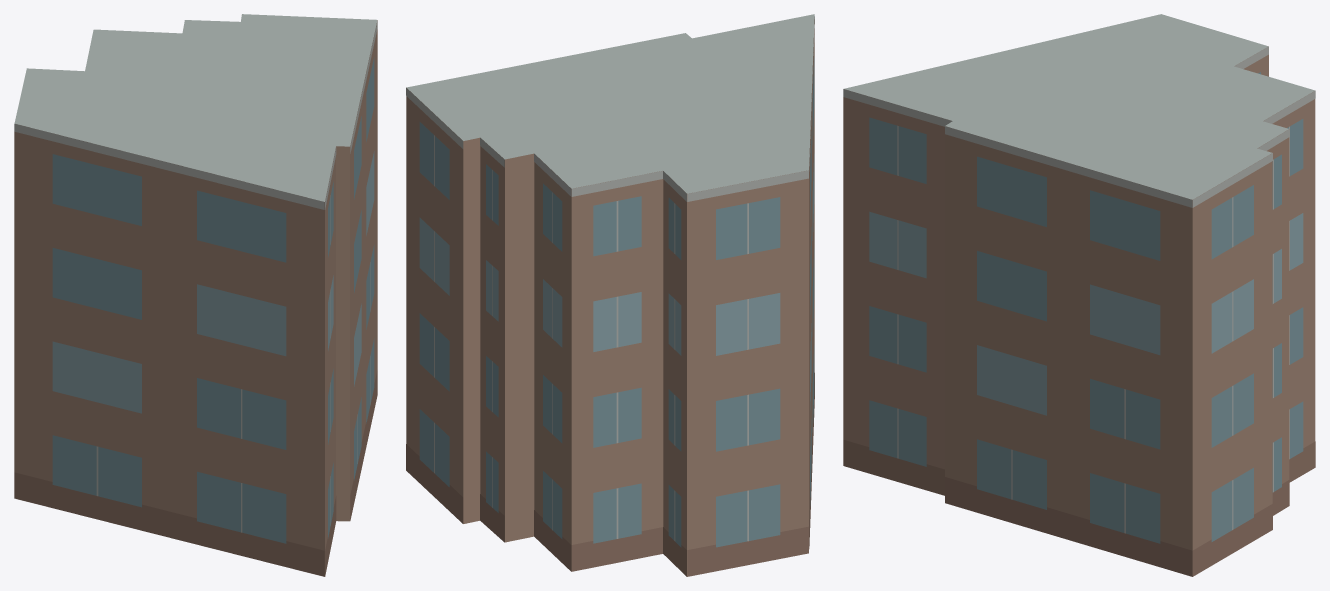
Rendered from survey-upis-32719913.glb.
3 views of the same model, side by side, from view 1: azimuth 30°, elevation 25°; view 2: azimuth 150°, elevation 25°; view 3: azimuth 270°, elevation 25° (orthographic). The views are drawn at different scales.
Visible parts, largest first — view 1: survey-upis-32719913.tmp; view 2: survey-upis-32719913.tmp; view 3: survey-upis-32719913.tmp.
Part boxes in pixels (x1,y1,x2,y2): survey-upis-32719913.tmp: (14, 14, 377, 576); survey-upis-32719913.tmp: (406, 14, 814, 576); survey-upis-32719913.tmp: (843, 14, 1315, 576).
Bounding box in the file's own units: 11.94 × 11.29 × 12.82.
